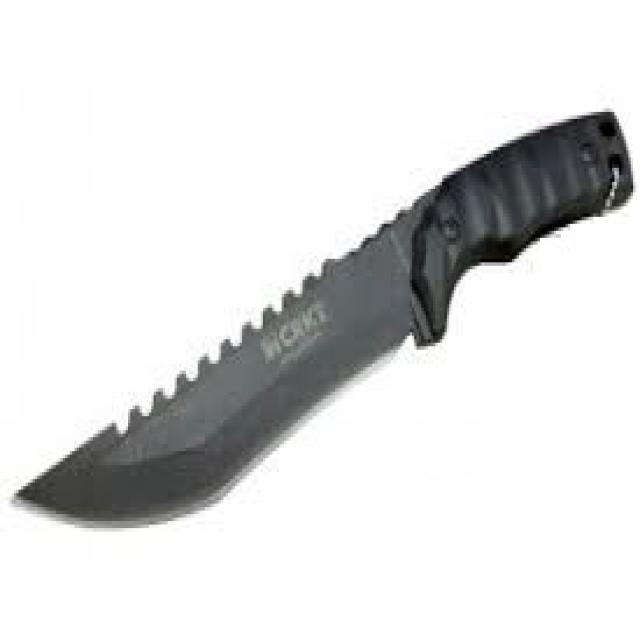knife: (5, 103, 637, 541)
